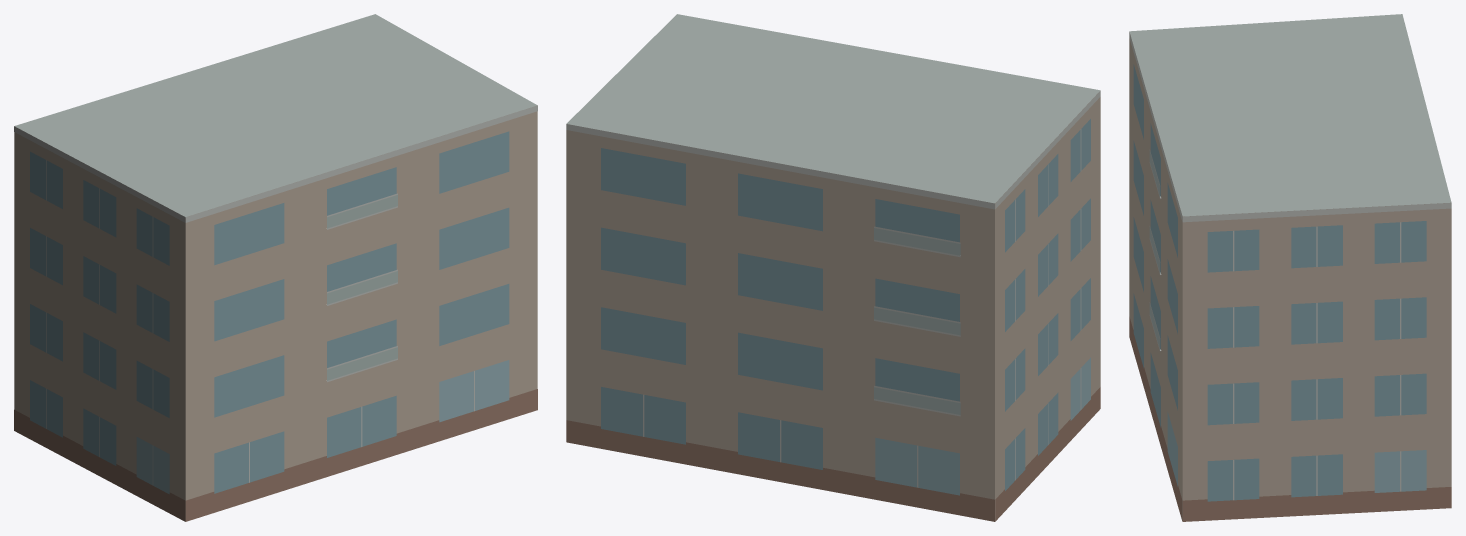
The model's file is survey-upis-32818734.glb.
3 renders of one model, left to right at view 1: azimuth 30°, elevation 25°; view 2: azimuth 150°, elevation 25°; view 3: azimuth 270°, elevation 25°, orthographic. The views are drawn at different scales.
Visible parts, largest first — view 1: survey-upis-32818734.tmp; view 2: survey-upis-32818734.tmp; view 3: survey-upis-32818734.tmp.
Boxes of the visible parts, x1=… form: survey-upis-32818734.tmp: x1=14, y1=14, x2=537, y2=521; survey-upis-32818734.tmp: x1=566, y1=14, x2=1100, y2=521; survey-upis-32818734.tmp: x1=1129, y1=14, x2=1451, y2=521.
Size of the model in its own units: 18.21 by 12.8 by 12.25.
